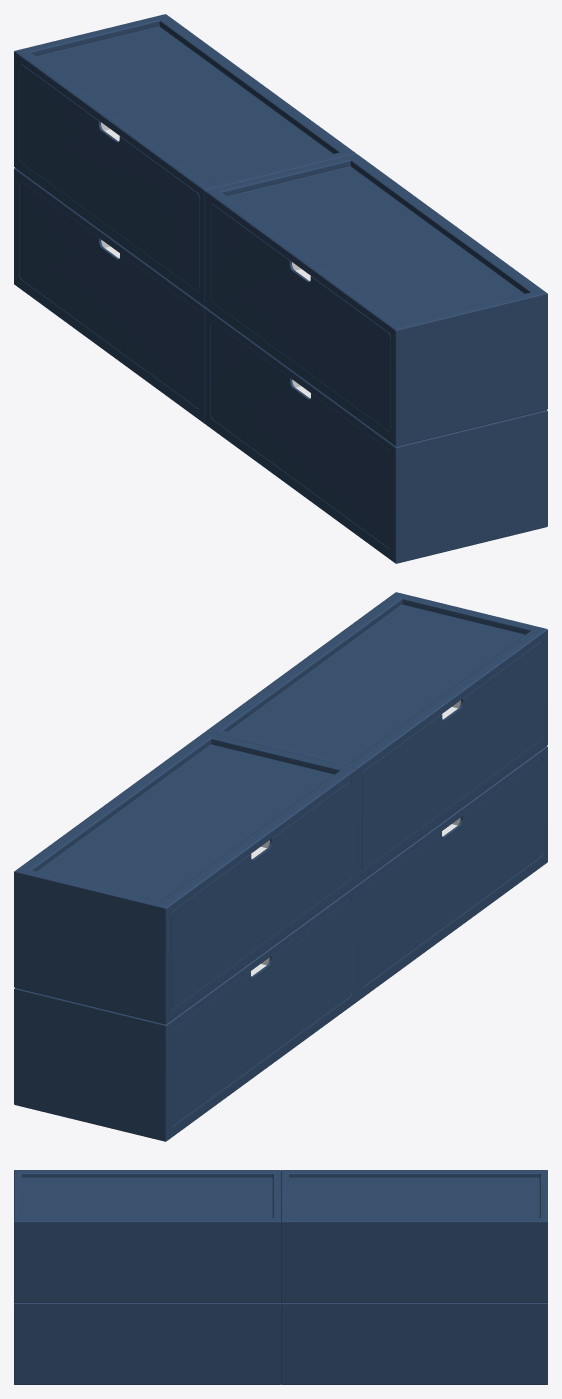
3 views of the same model, one above another, from view 1: azimuth 30°, elevation 25°; view 2: azimuth 150°, elevation 25°; view 3: azimuth 270°, elevation 25° (orthographic). The views are drawn at different scales.
Visible parts, largest first — view 1: S_3, S_1, S_4, Cube017, Cube010, Cube018, Cube008, S_2; view 2: S_1, S_3, S_2, Cube017, Cube010, Cube018, Cube008, S_4; view 3: S_1, S_3, S_2, S_4.
Boxes of the visible parts, bbox=[...] form: S_3: bbox=[205, 154, 547, 446]; S_1: bbox=[14, 14, 356, 306]; S_4: bbox=[205, 308, 547, 563]; Cube017: bbox=[19, 64, 199, 291]; Cube010: bbox=[210, 204, 390, 431]; Cube018: bbox=[210, 321, 390, 548]; Cube008: bbox=[19, 181, 199, 408]; S_2: bbox=[14, 168, 205, 423]; S_1: bbox=[14, 732, 356, 1024]; S_3: bbox=[205, 592, 547, 884]; S_2: bbox=[14, 886, 356, 1141]; Cube017: bbox=[171, 781, 352, 1008]; Cube010: bbox=[362, 641, 543, 868]; Cube018: bbox=[362, 759, 542, 985]; Cube008: bbox=[171, 898, 351, 1125]; S_4: bbox=[356, 746, 547, 1001]; S_1: bbox=[281, 1170, 547, 1302]; S_3: bbox=[14, 1170, 280, 1302]; S_2: bbox=[281, 1303, 547, 1384]; S_4: bbox=[14, 1303, 280, 1384].
Bounding box in the file's own units: 0.5456 × 0.8191 × 2.37.
